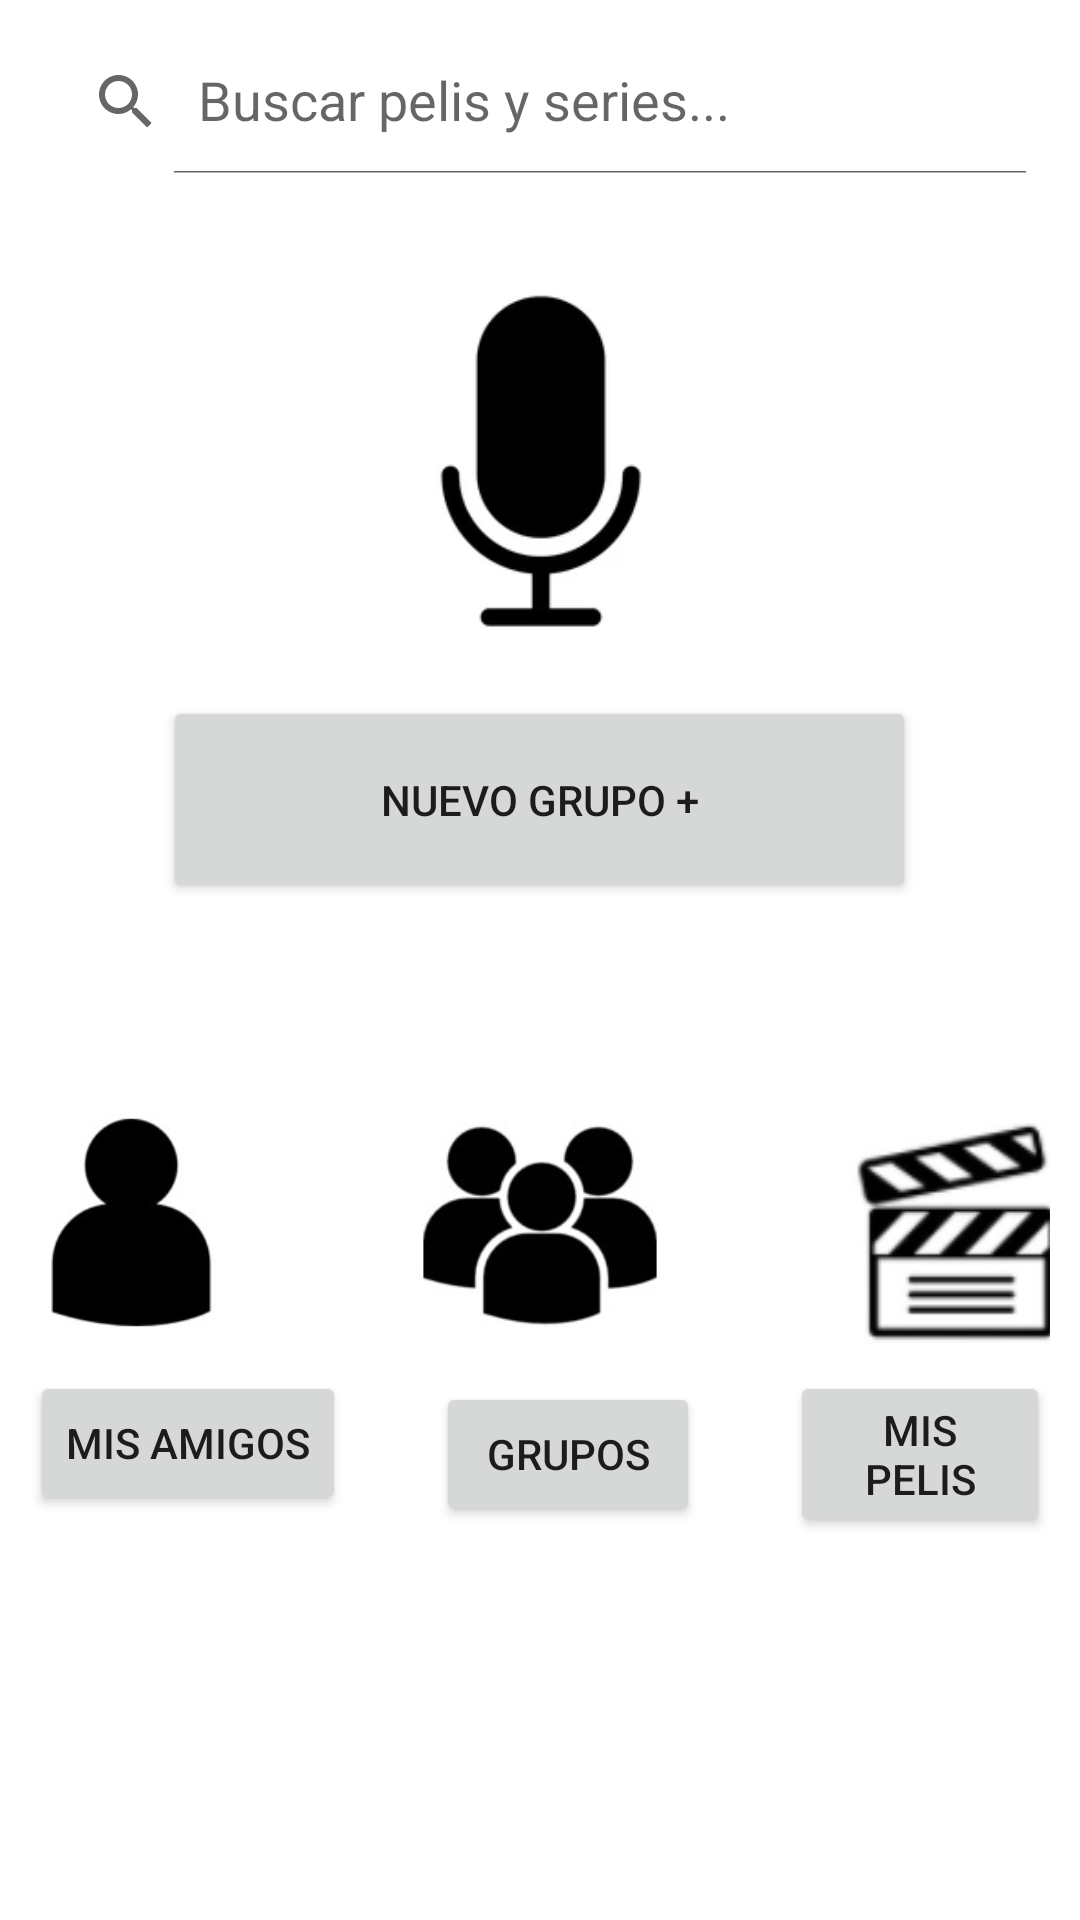

Point at icon controls on the screen. Image size 1080 × 1920, points as [x,y].
groups: [540,1225]
Mic: [541,461]
